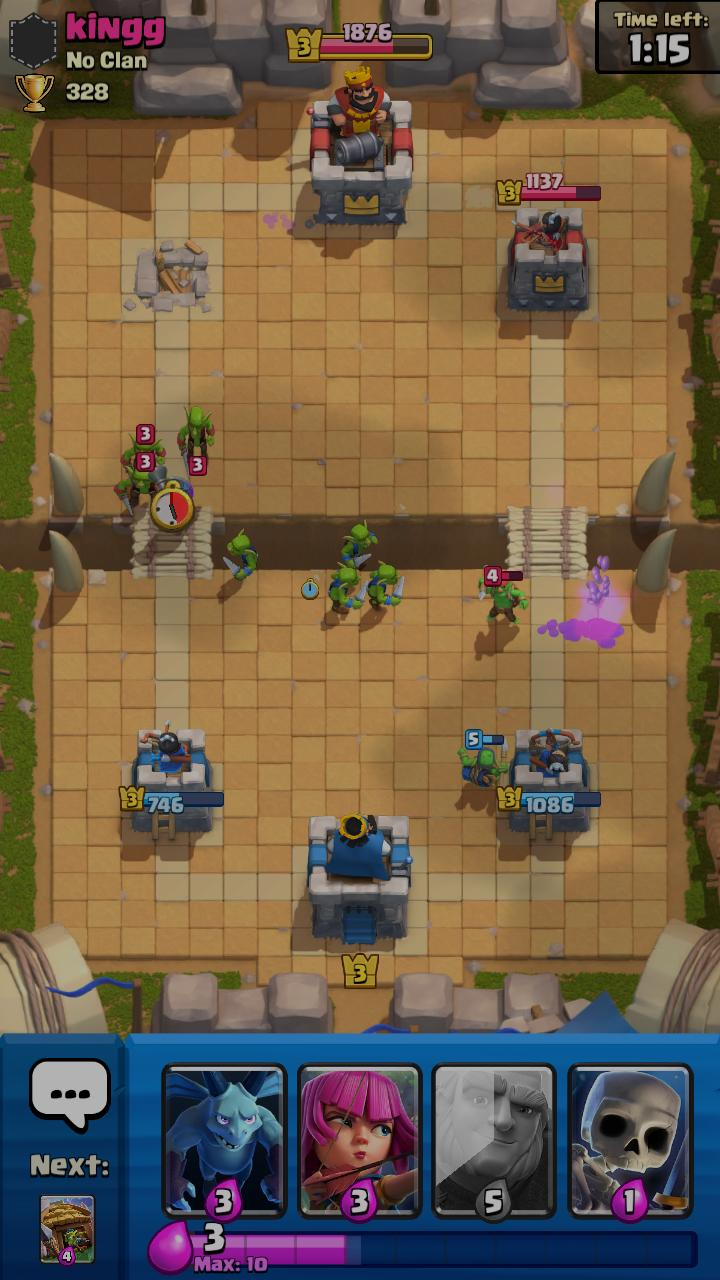ally: (148, 465, 193, 535), (457, 729, 509, 789), (328, 562, 368, 614), (340, 519, 378, 571), (367, 560, 405, 611), (223, 528, 258, 581)
enemy: (478, 565, 529, 624), (114, 452, 157, 516), (178, 405, 215, 477), (120, 424, 166, 473)
